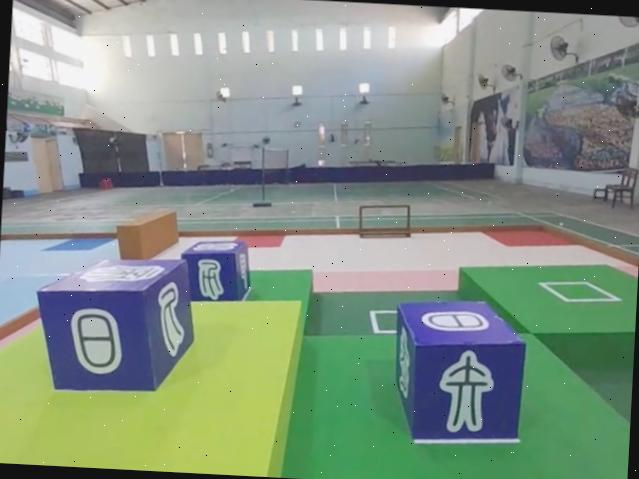R2 Fake Blue: (33, 253, 197, 399), (386, 297, 525, 453), (176, 234, 252, 306)
